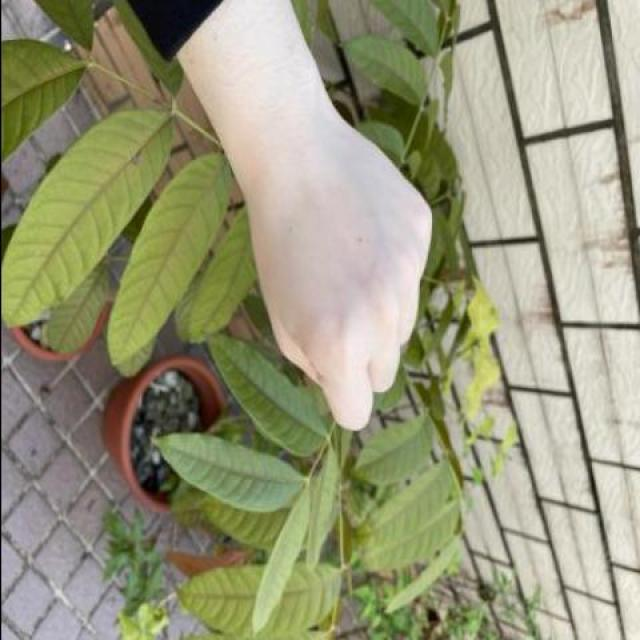Closed Hand: (224, 116, 440, 436)
